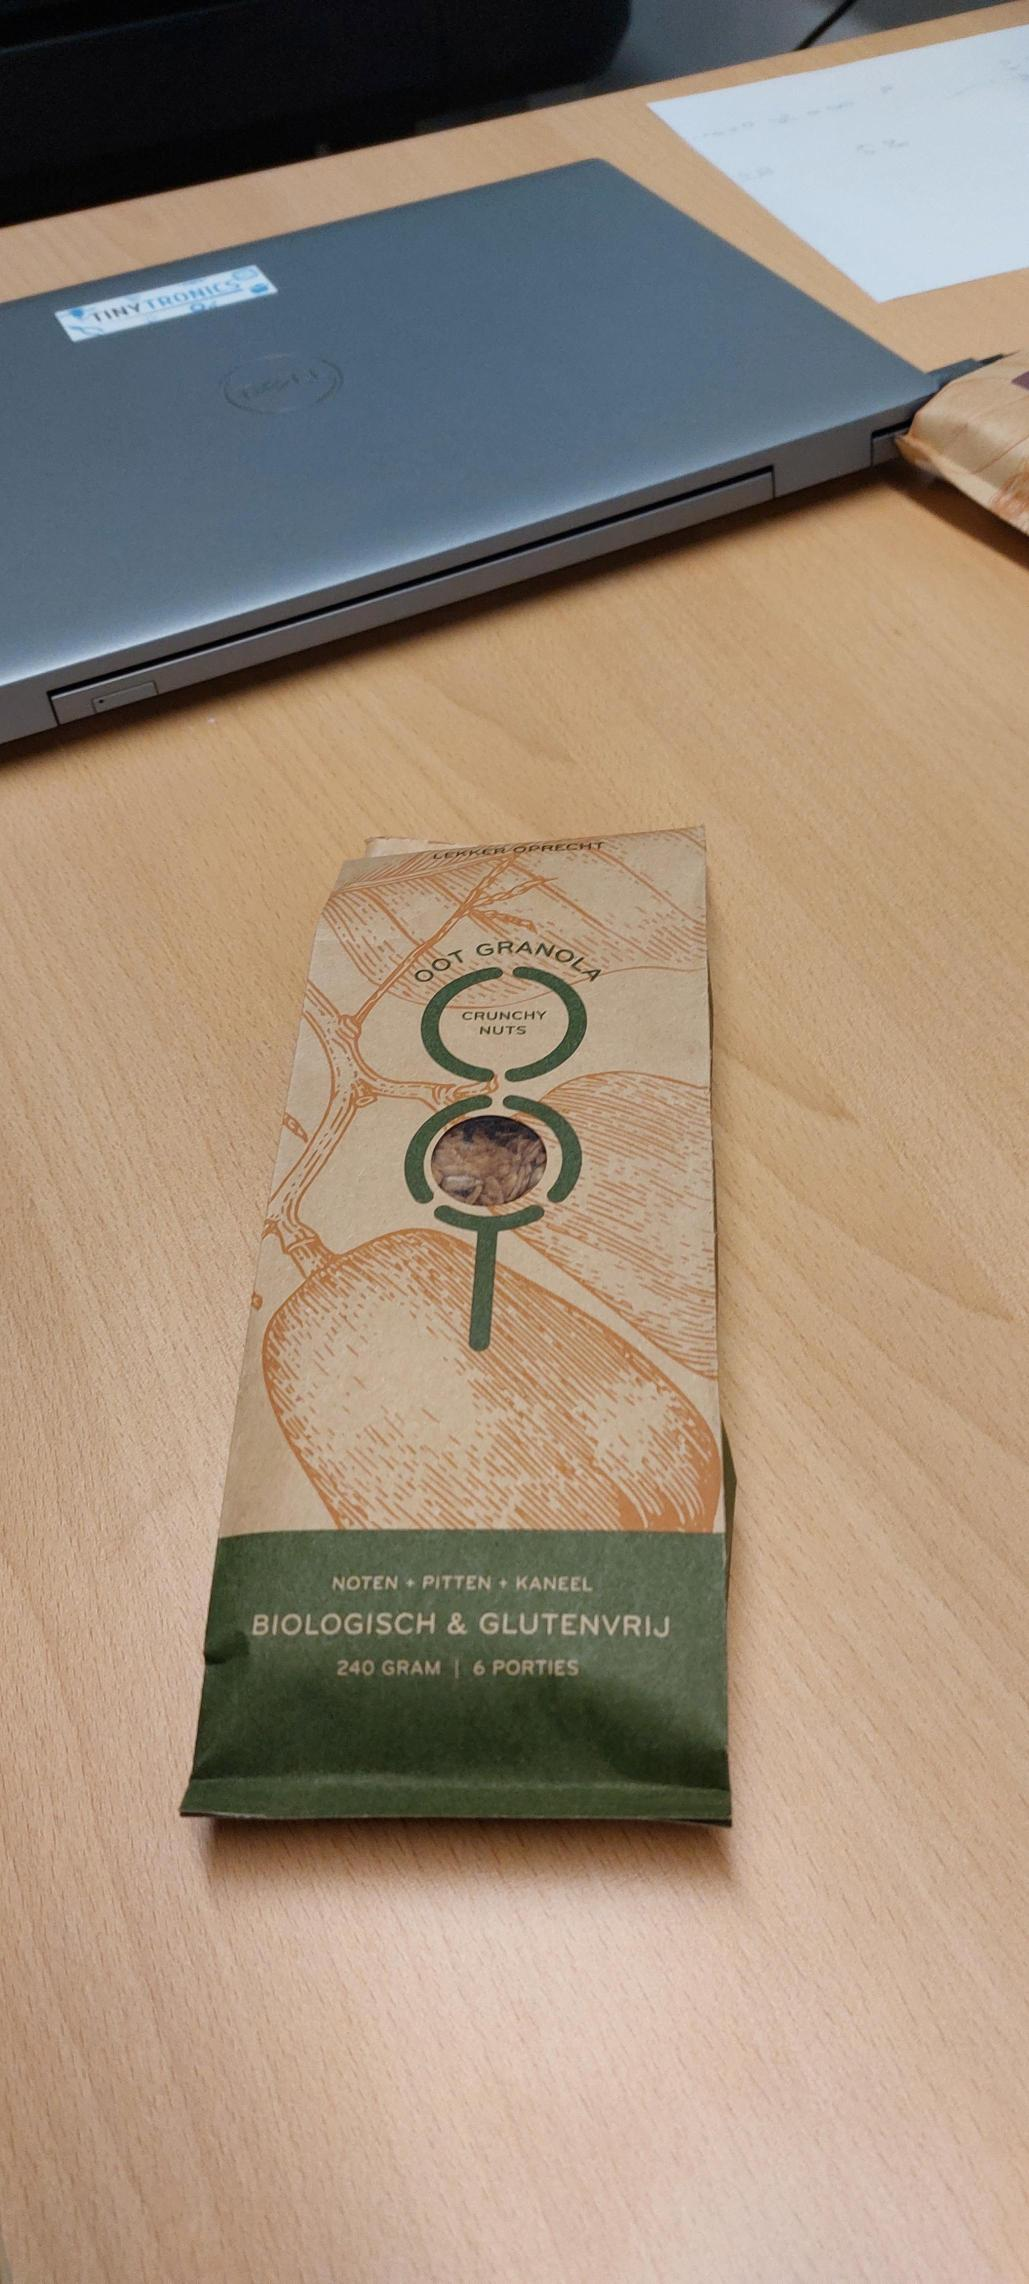CrunchyNuts: (243, 819, 707, 1795)
